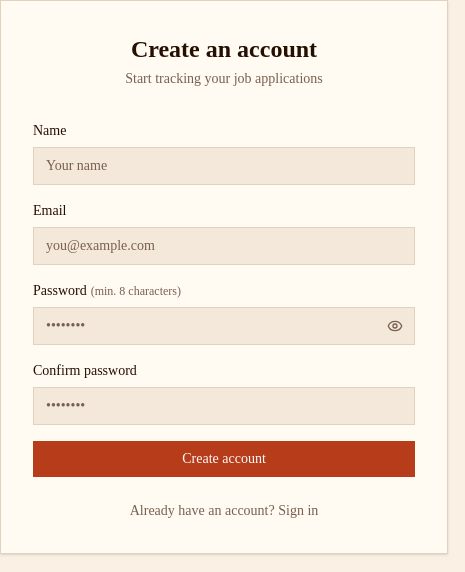
Test: RegisterPage › disables the submit button while loading
In the field labelled "Name": [224, 166] box [33,147,415,185], type "Test User"
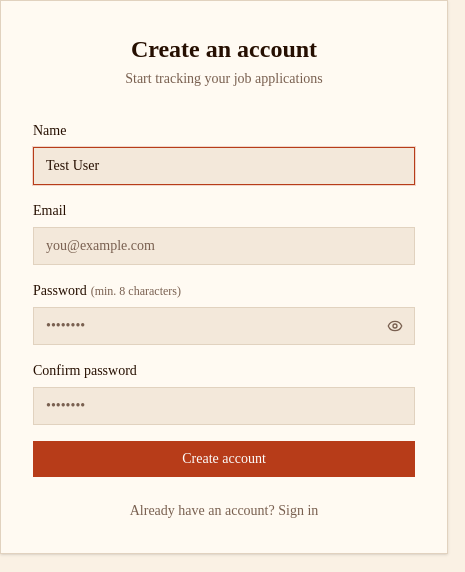
In the field labelled "Email": [224, 246] box [33,227,415,265], type "test@example.com"
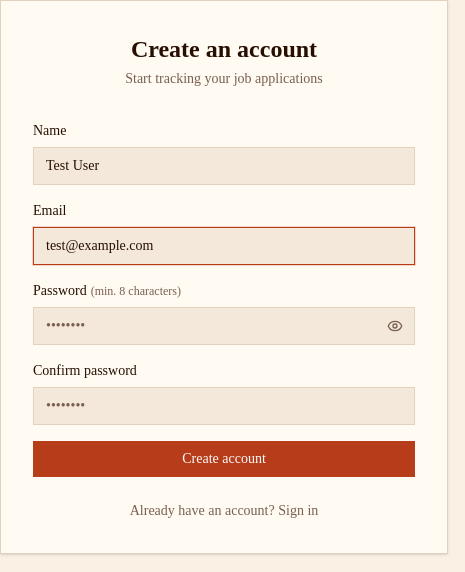
In the password field labelled "Password(min. 8 characters)": [224, 326] box [33,307,415,345], type "password123"
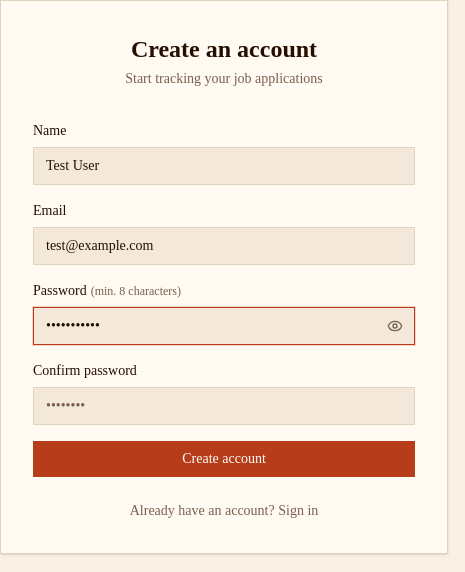
In the password field labelled "Confirm password": [224, 406] box [33,387,415,425], type "password123"
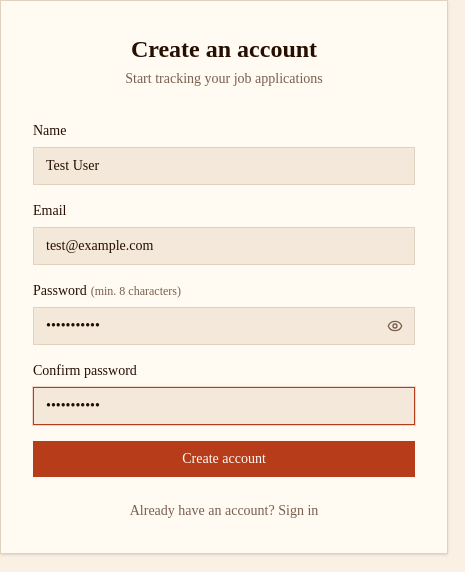
Click the button "Create account": [224, 459] box [33,441,415,477]
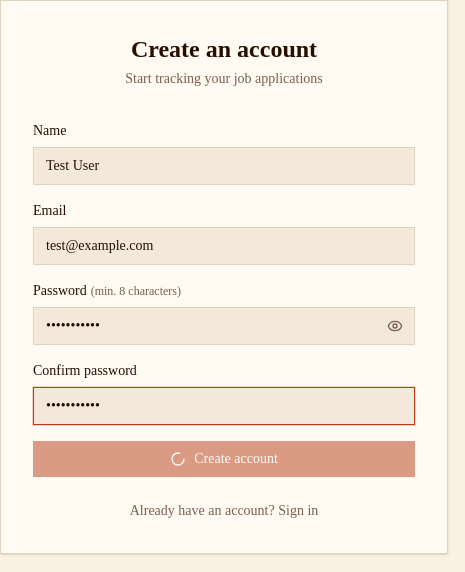
Expected: the button "Create account" is disabled, [33,441,415,477]
